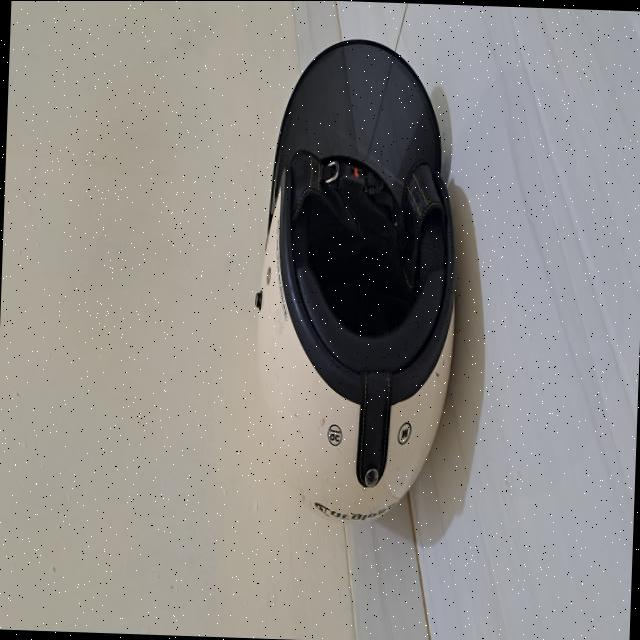Helm: (240, 27, 472, 546)
